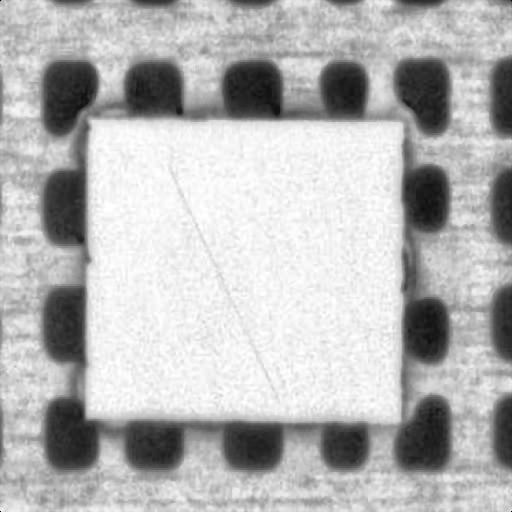DIE_CRACK: (221, 122, 368, 301)
